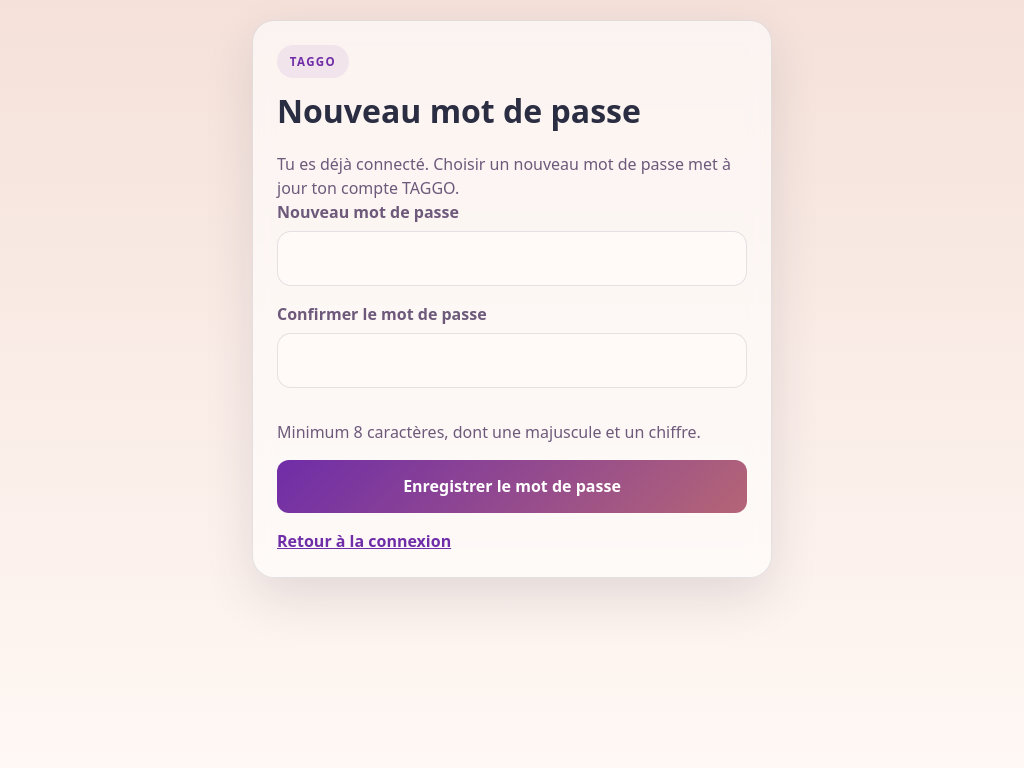
Test case: /reset-password › traduit un lien expiré remonté par updatePassword
Type "NewStrong123!" into the password field labelled "Nouveau mot de passe". click: (512, 258)
box: [277, 231, 747, 286]
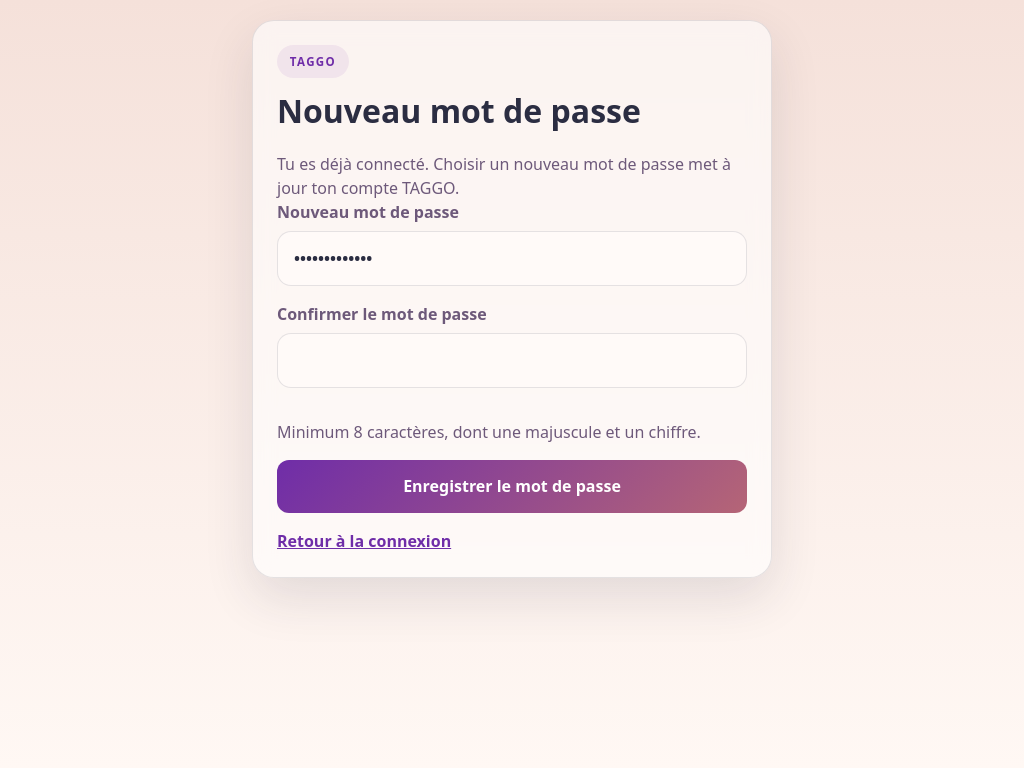
Type "NewStrong123!" into the password field labelled "Confirmer le mot de passe". click: (512, 360)
box: [277, 333, 747, 388]
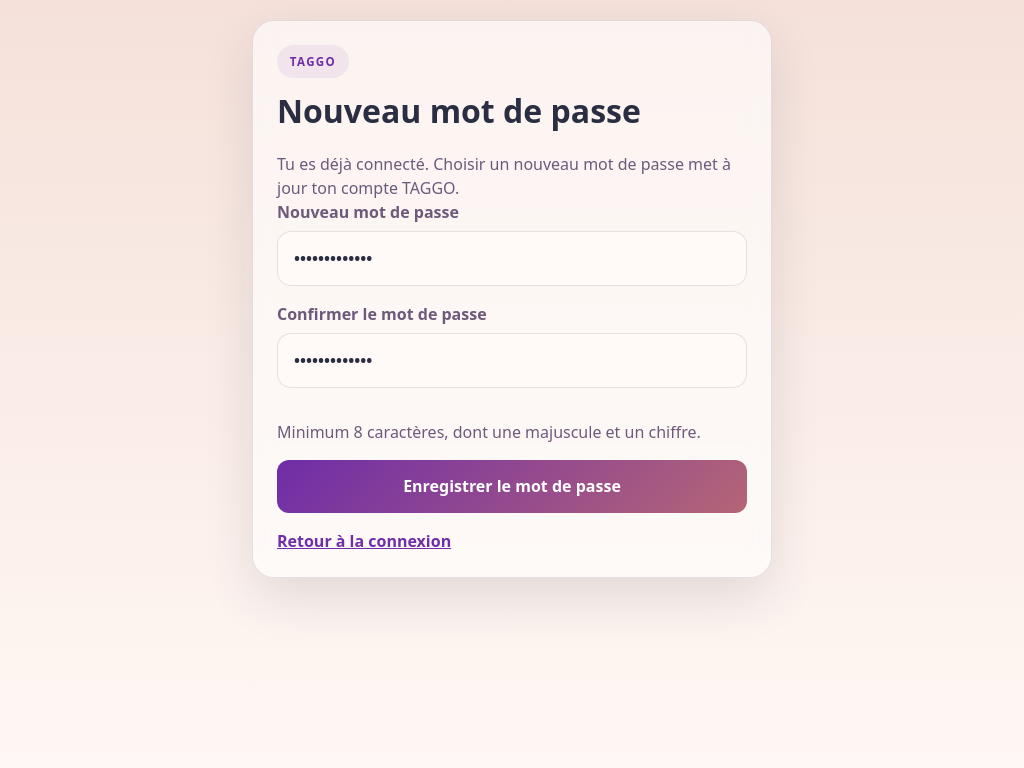
Submit the form named "Enregistrer le mot de passe", box [277, 200, 747, 512]
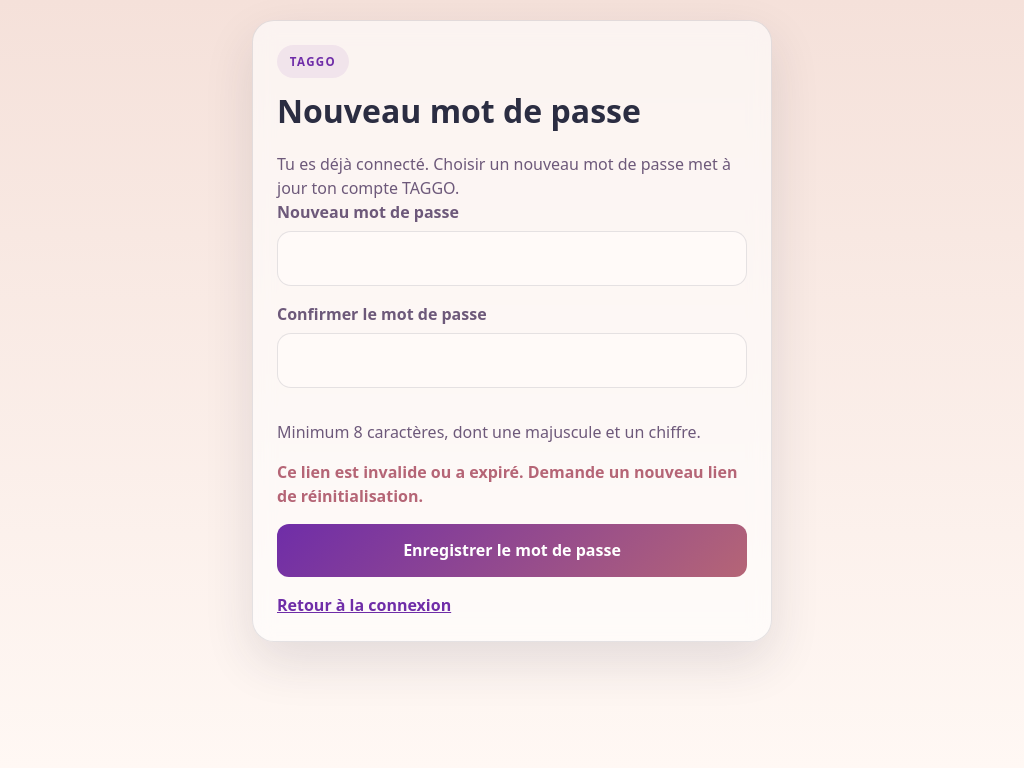
Now the message shows "invalide ou a expiré", box [277, 461, 738, 507]
